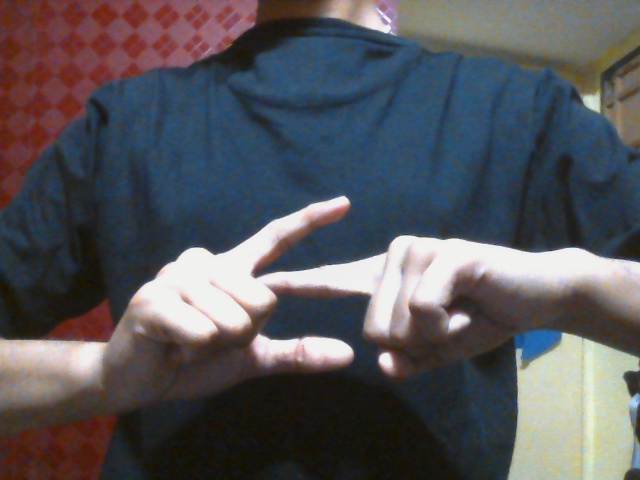E: (122, 194, 509, 406)
